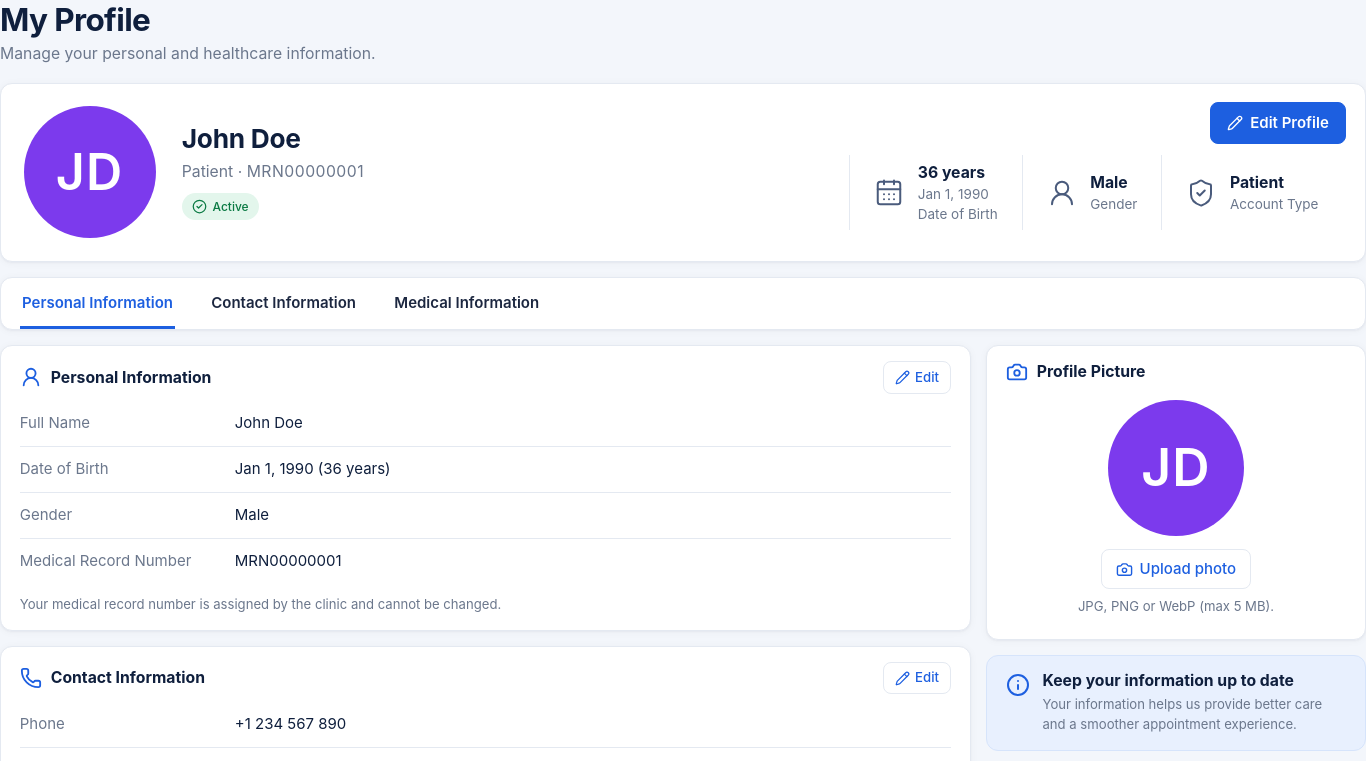
My Profile › does not send personal details with a blank name
This screenshot has width=1366, height=761.
Click the button with aria-label "Edit personal details" at [917, 377], box [883, 361, 951, 394]
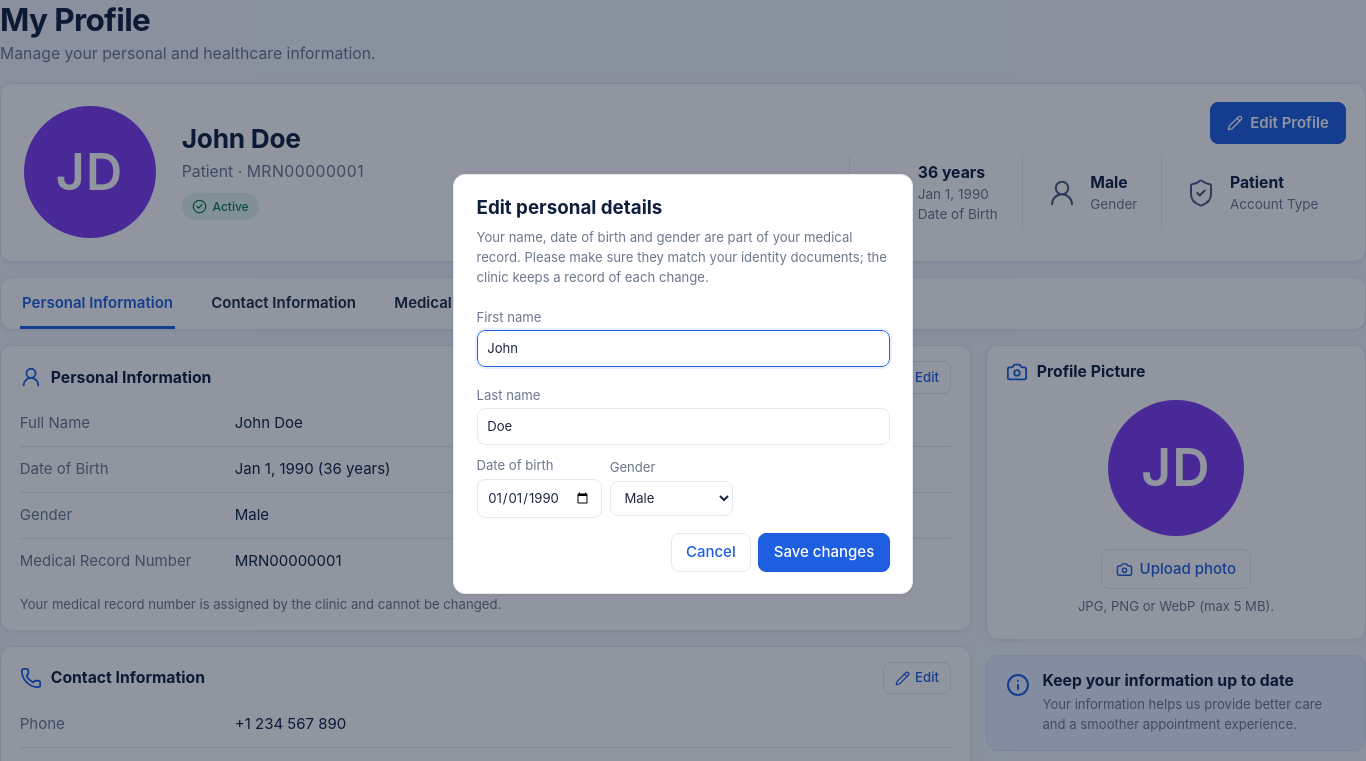
Clear the field labelled "Last name" at [683, 427], box [476, 408, 890, 445]
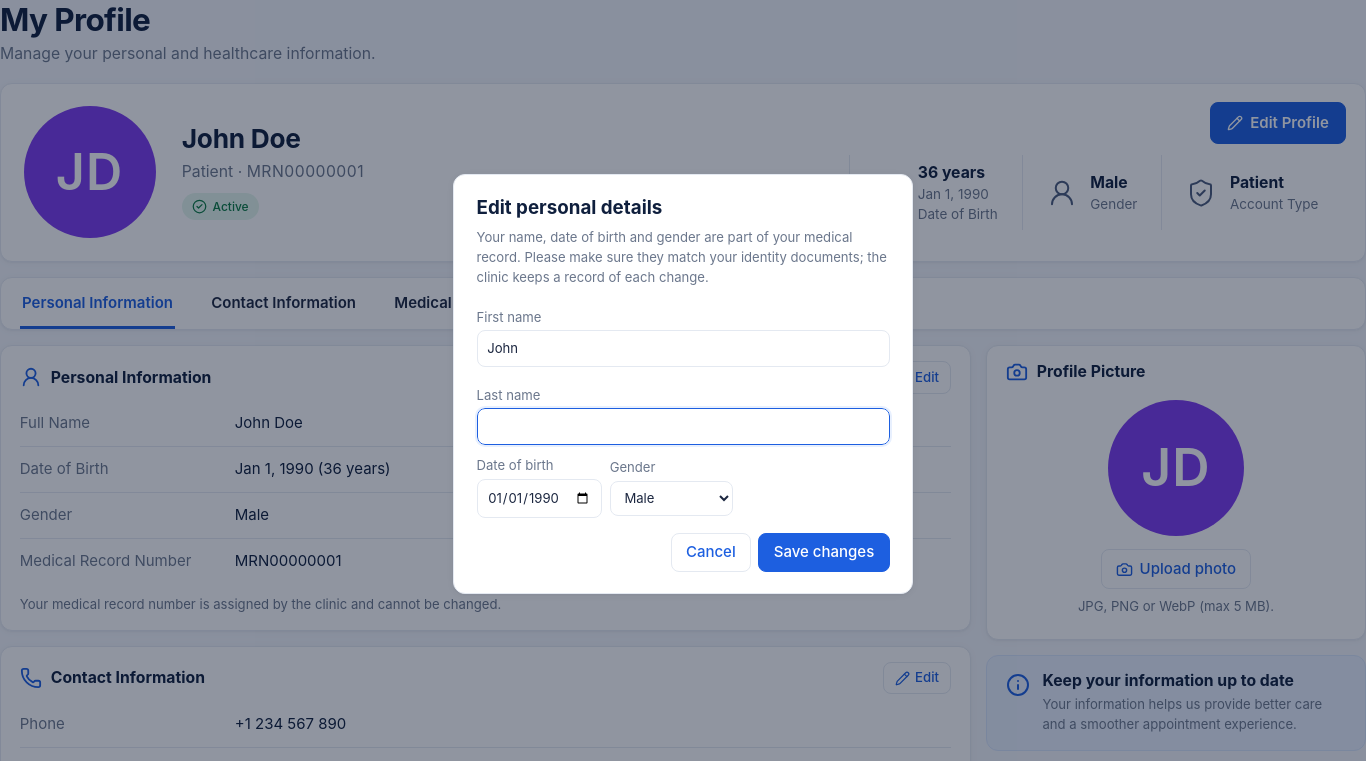
Click the button "Save changes" at [824, 552], box [758, 533, 890, 572]
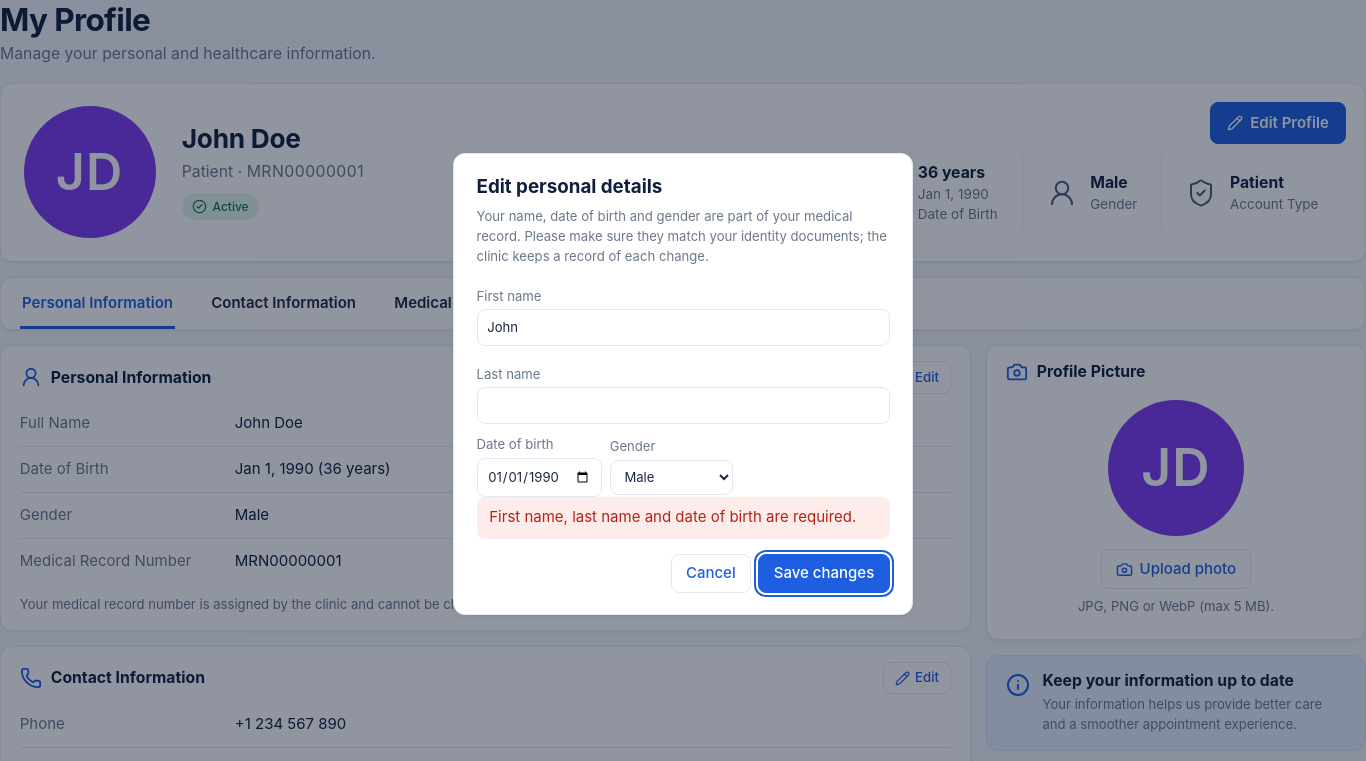
Now the text "First name, last name and date of birth are required." is shown, box [476, 497, 890, 539]
